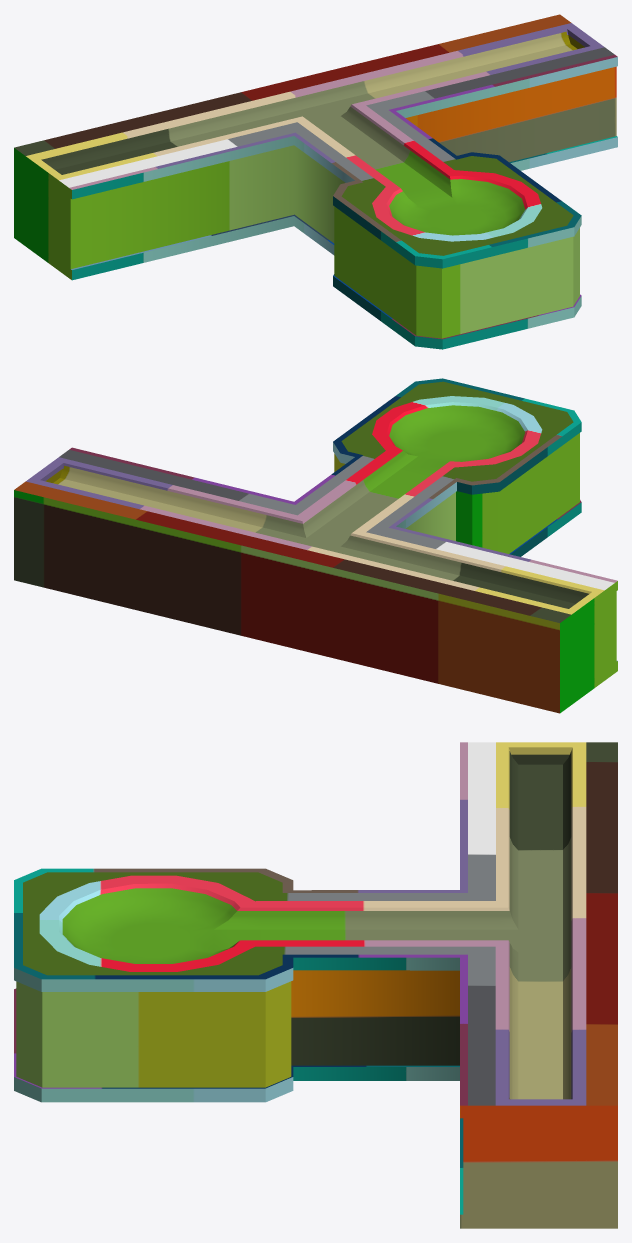
File: Brasier_Low.FBX
The picture shows the model from 3 angles, top to bottom: view 1: azimuth 30°, elevation 25°; view 2: azimuth 150°, elevation 25°; view 3: azimuth 270°, elevation 25°; orthographic projection. The views are drawn at different scales.
Visible parts, largest first — view 1: Reliquia_Cata_Brasier; view 2: Reliquia_Cata_Brasier; view 3: Reliquia_Cata_Brasier.
Boxes of the visible parts, x1,y1,x2,y2 form: Reliquia_Cata_Brasier: [14, 14, 617, 349]; Reliquia_Cata_Brasier: [14, 378, 617, 713]; Reliquia_Cata_Brasier: [14, 742, 617, 1228].
Bounding box in the file's own units: 500 × 79.06 × 351.
